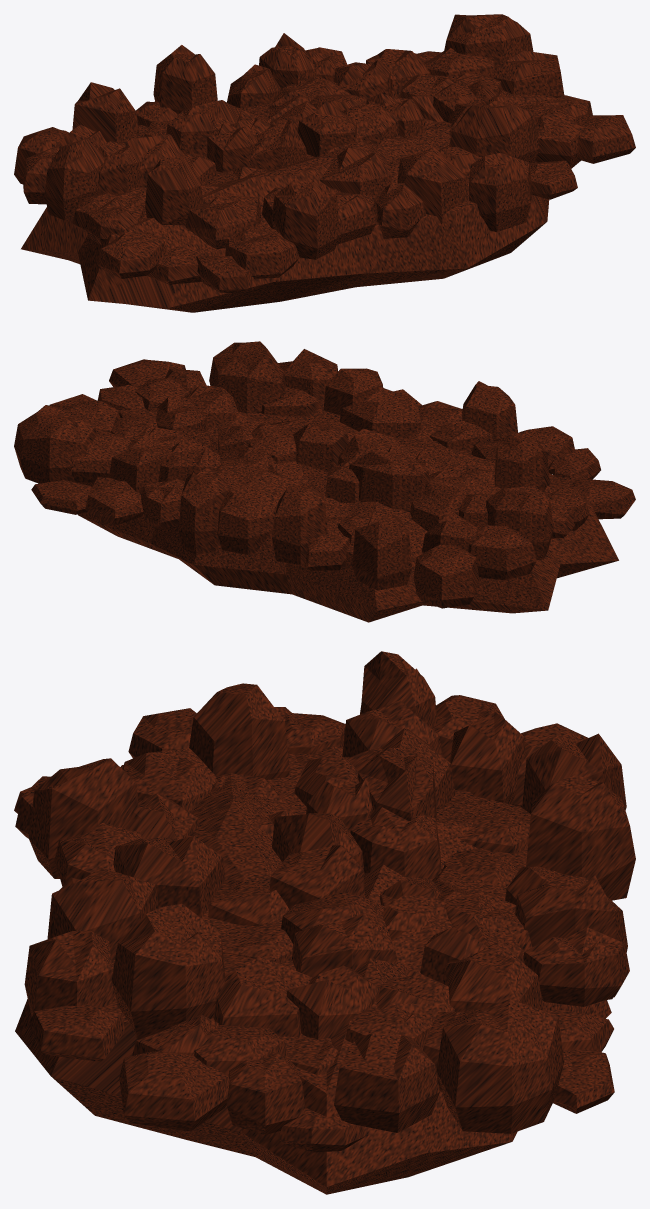
Rendered from cork.glb.
3 views of the same model, one above another, from view 1: azimuth 30°, elevation 25°; view 2: azimuth 150°, elevation 25°; view 3: azimuth 270°, elevation 25° (orthographic). The views are drawn at different scales.
Parts seen in each view (by area): view 1: cork; view 2: cork; view 3: cork.
Part boxes in pixels (x1=…): cork: x1=14, y1=14, x2=635, y2=312; cork: x1=14, y1=341, x2=635, y2=622; cork: x1=14, y1=651, x2=635, y2=1194.
Bounding box in the file's own units: 1.99 × 0.4742 × 1.29.
1 material, 1 textured.
